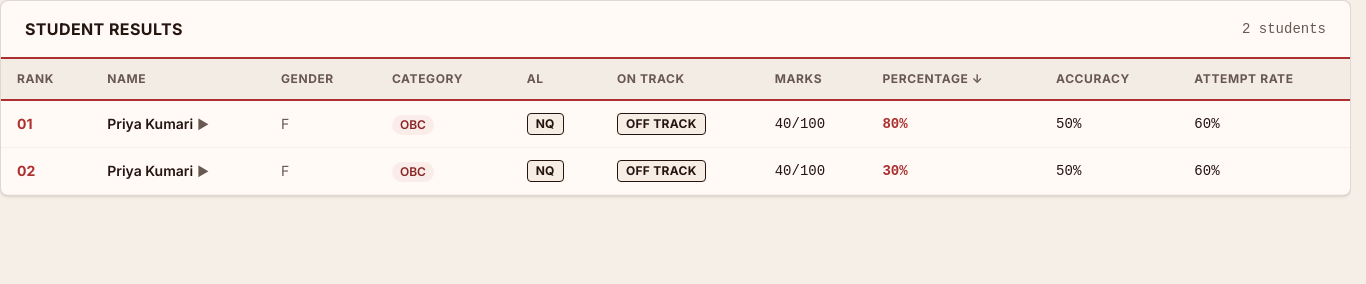
Test: StudentResultsTable › expands only the clicked Student when two Students share a name
Click the text "Priya Kumari" next to "01".
click(178, 124)  # box [91,100,265,148]
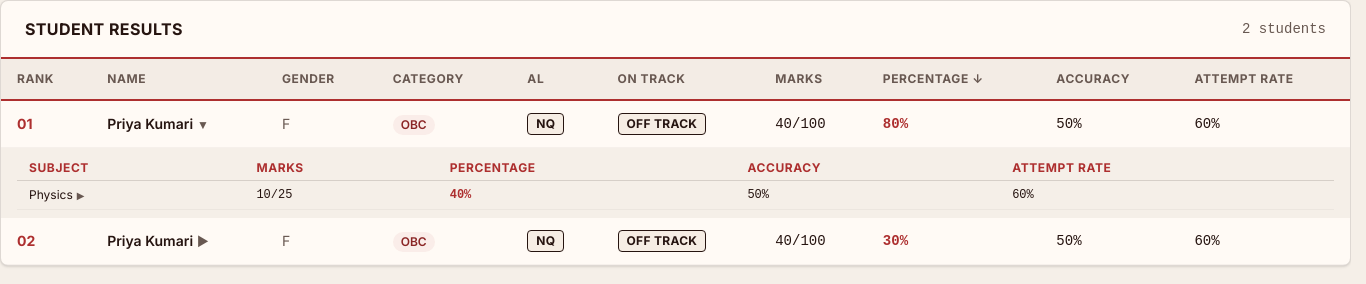
expect the text "Physics" is shown once: met, box [17,180,244,210]
